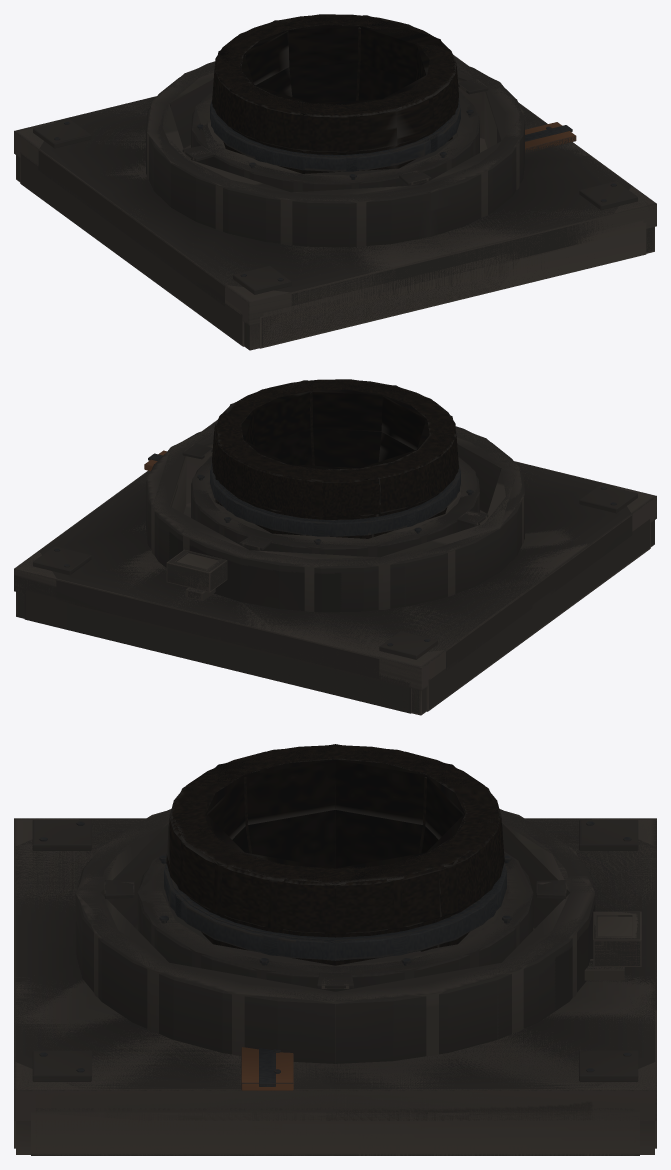
File: massline_core.glb
3 views of the same model, one above another, from view 1: azimuth 30°, elevation 25°; view 2: azimuth 150°, elevation 25°; view 3: azimuth 270°, elevation 25° (orthographic). The views are drawn at different scales.
Visible parts, largest first — view 1: LOD0_massline_core, LOD2_massline_core, LOD1_massline_core, LOD0_massline_core_spin, LOD1_massline_core_spin; view 2: LOD0_massline_core, LOD1_massline_core, LOD2_massline_core, LOD0_massline_core_spin, LOD0_massline_core_lamp, LOD1_massline_core_lamp, LOD1_massline_core_spin, LOD2_massline_core_lamp; view 3: LOD0_massline_core, LOD1_massline_core, LOD2_massline_core, LOD0_massline_core_spin, LOD1_massline_core_lamp, LOD0_massline_core_lamp, LOD1_massline_core_spin, LOD2_massline_core_lamp.
Part boxes in pixels (x1,y1,x2,y2): LOD0_massline_core: (16,14,653,348); LOD2_massline_core: (14,15,656,347); LOD1_massline_core: (14,14,656,350); LOD0_massline_core_spin: (210,99,460,171); LOD1_massline_core_spin: (211,98,459,171); LOD0_massline_core: (17,379,654,713); LOD1_massline_core: (14,379,656,715); LOD2_massline_core: (14,380,656,712); LOD0_massline_core_spin: (210,464,460,536); LOD0_massline_core_lamp: (167,550,226,598); LOD1_massline_core_lamp: (166,549,227,600); LOD1_massline_core_spin: (211,463,459,536); LOD2_massline_core_lamp: (177,553,218,600); LOD0_massline_core: (15,745,655,1089); LOD1_massline_core: (14,744,656,1155); LOD2_massline_core: (14,744,656,1155); LOD0_massline_core_spin: (164,863,506,959); LOD1_massline_core_lamp: (585,911,641,969); LOD0_massline_core_lamp: (587,912,640,968); LOD1_massline_core_spin: (164,864,506,960); LOD2_massline_core_lamp: (584,916,632,980).
Size of the model in its own units: 2.11 by 0.735 by 2.08.
3 materials, 3 textured.
